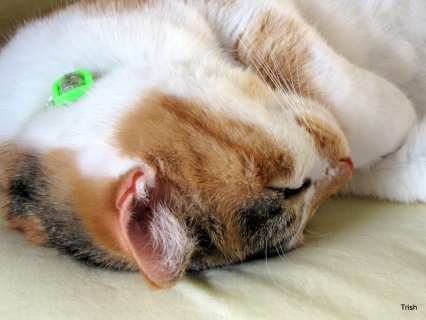Cat: (0, 0, 426, 296)
